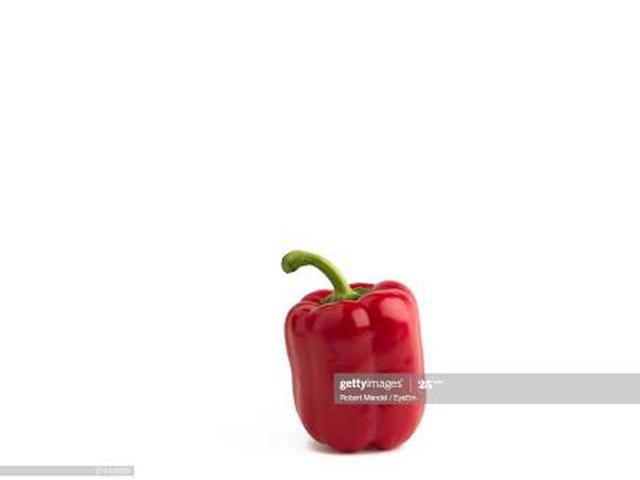bell_pepper: (261, 239, 435, 446)
